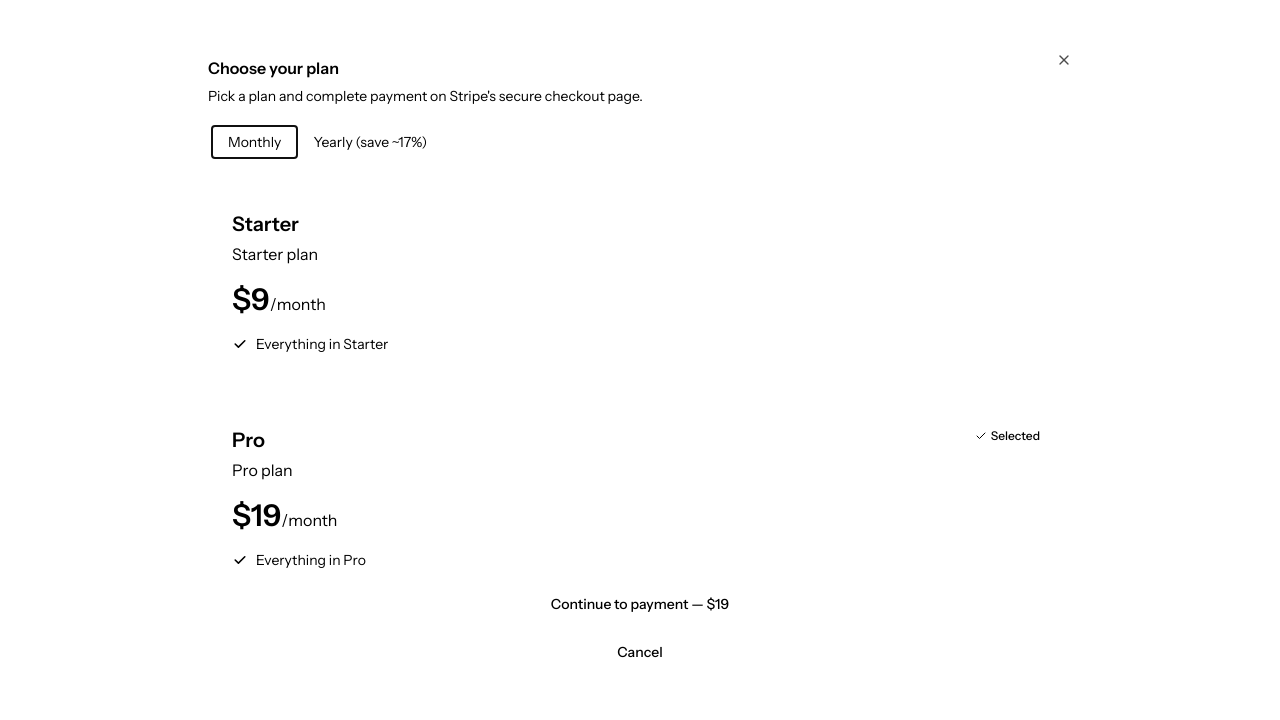
UpgradeDialog Agency plan › offers Agency and states the exact annual charge
The width and height of the screenshot is (1280, 720).
Click the radio button labelled "Yearly (save ~17%)" at (370, 142), box [297, 126, 443, 158]
(page scrolled)
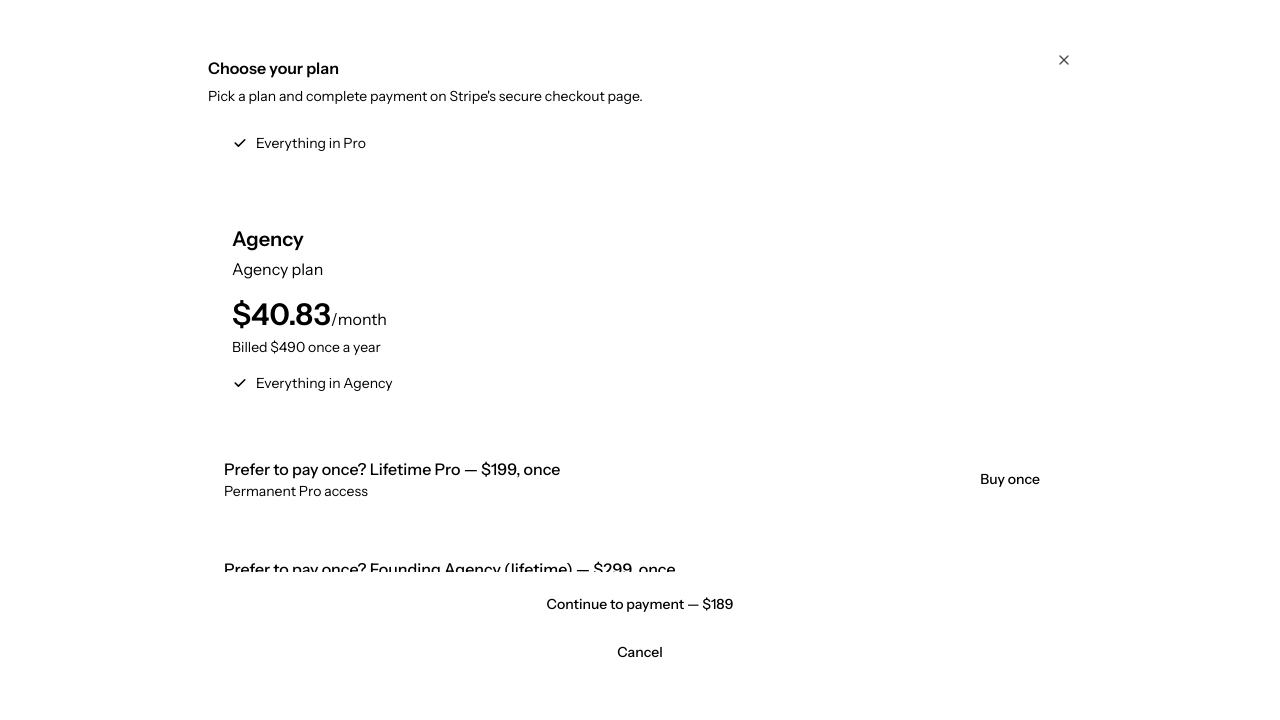
Result: the text "$40.83" is shown at [232, 296, 331, 333]
Result: the text "Billed $490 once a year" is shown at [232, 338, 381, 356]
